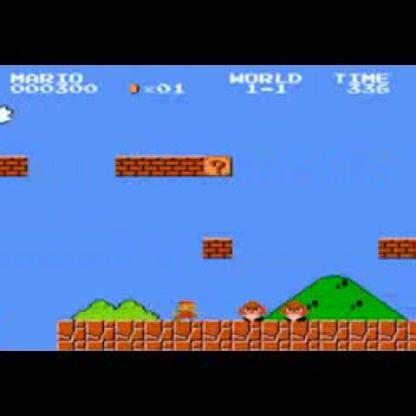Goomba: (281, 296, 309, 323), (239, 296, 268, 322)
Hoyo: (0, 319, 60, 351)
